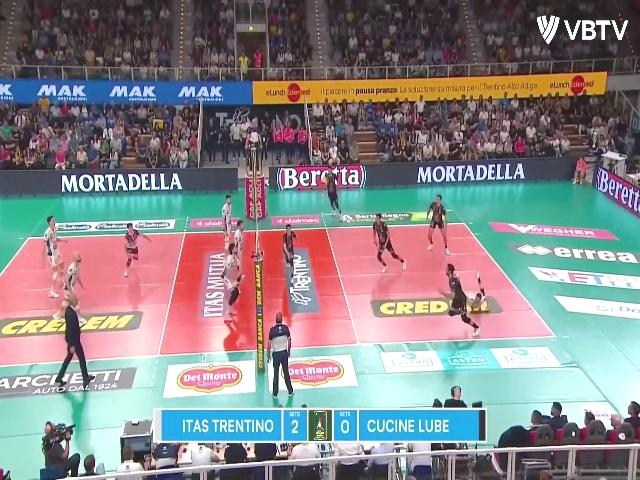volleyball court: (0, 220, 557, 364)
